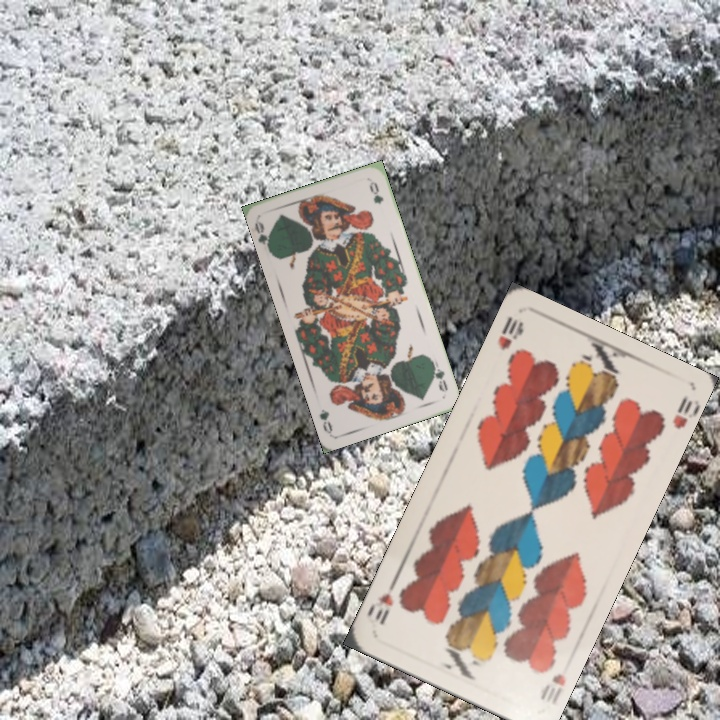GO: (251, 217, 274, 256), (427, 357, 450, 394)
H10: (494, 312, 526, 353), (536, 669, 568, 703)
